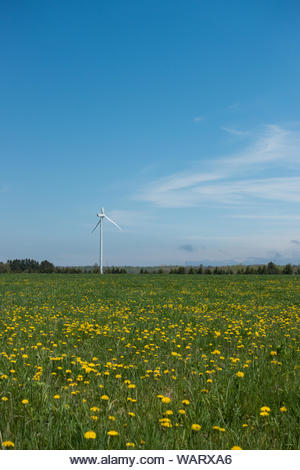faulty: (85, 203, 124, 264)
